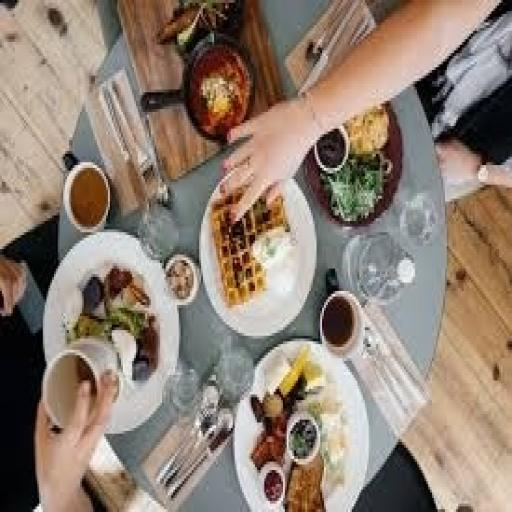eating: (2, 3, 506, 506)
